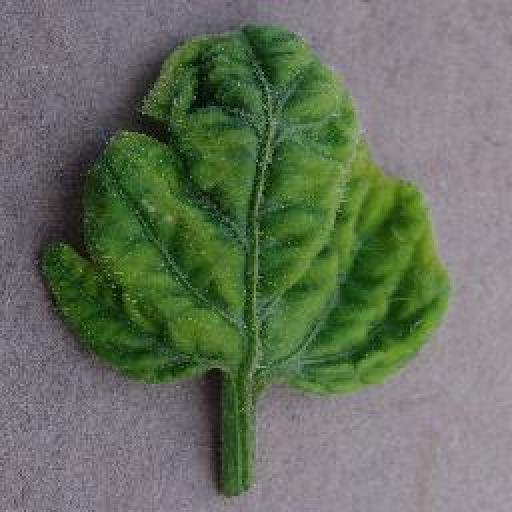disease_tomato: (42, 24, 452, 393)
